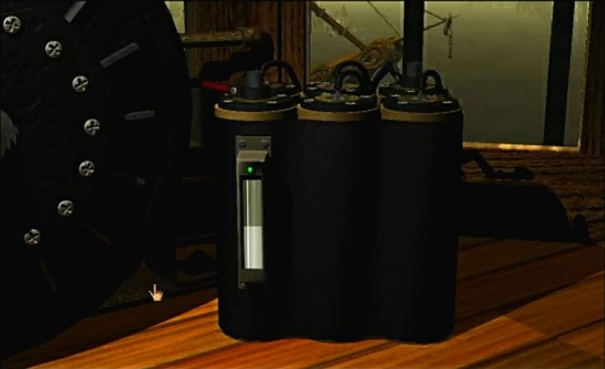Pointer: (146, 279, 167, 303)
